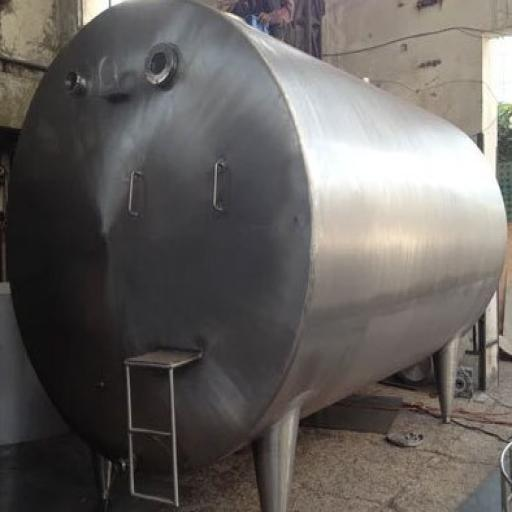silo: (7, 0, 509, 511)
